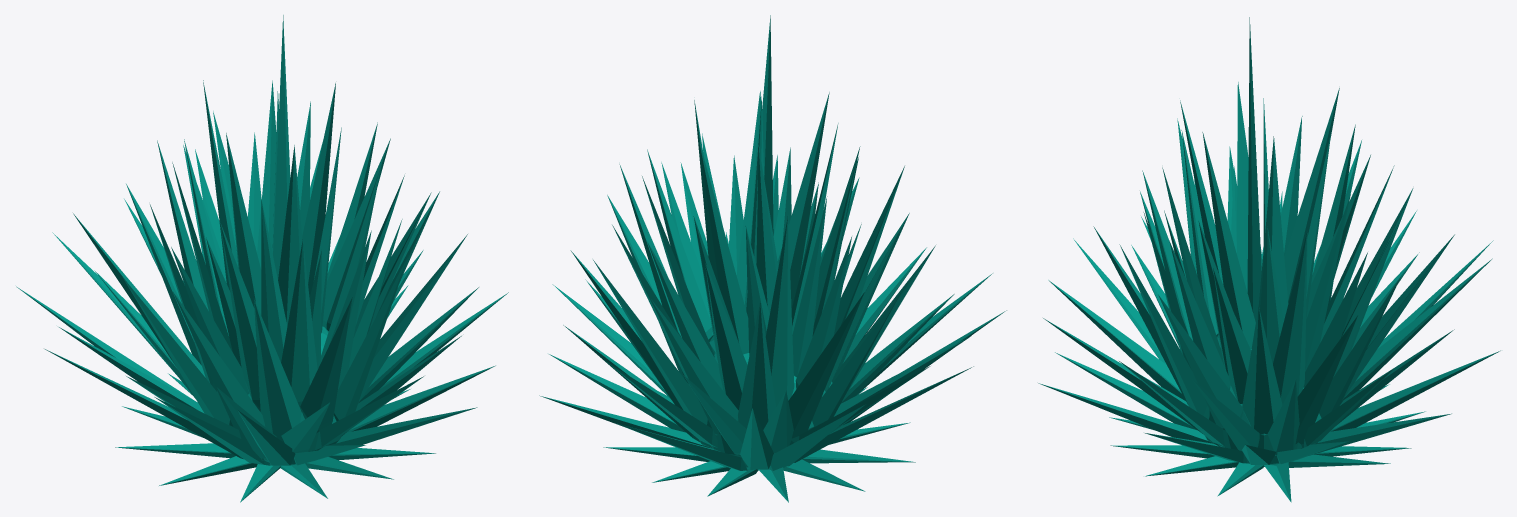
File: agave.glb
The picture shows the model from 3 angles, left to right: view 1: azimuth 30°, elevation 25°; view 2: azimuth 150°, elevation 25°; view 3: azimuth 270°, elevation 25°; orthographic projection. The views are drawn at different scales.
Parts seen in each view (by area): view 1: group1808682730, group321949543, group1232985006, group334840783, group1937561181, group1732842745, group1236448184, group818512132, group856046640, group76448869, group697500498, group1370576841 (+48 smaller); view 2: group576003678, group415249786, group1368278764, group1895805210, group1317476708, group697500498, group2141837401, group395278043, group79880729, group1937783385, group1699110549, group818512132 (+44 smaller); view 3: group1863386935, group603349665, group496826606, group1236448184, group79880729, group1940115487, group1937561181, group678734681, group1144192691, group1457567229, group834218464, group334840783 (+46 smaller).
Boxes of the visible parts, <box> form: group1808682730: <box>281,239,317,412</box>; group321949543: <box>254,299,301,442</box>; group1232985006: <box>220,222,260,411</box>; group334840783: <box>302,83,335,297</box>; group1937561181: <box>334,255,408,421</box>; group1732842745: <box>300,297,352,433</box>; group1236448184: <box>273,15,290,279</box>; group818512132: <box>122,276,229,424</box>; group856046640: <box>226,133,261,314</box>; group76448869: <box>173,292,264,460</box>; group697500498: <box>278,145,302,325</box>; group1370576841: <box>261,199,287,361</box>; group576003678: <box>765,215,794,406</box>; group415249786: <box>698,139,748,354</box>; group1368278764: <box>788,292,864,445</box>; group1895805210: <box>738,301,776,429</box>; group1317476708: <box>705,262,747,409</box>; group697500498: <box>777,92,829,308</box>; group2141837401: <box>593,260,714,449</box>; group395278043: <box>792,196,827,377</box>; group79880729: <box>756,145,778,314</box>; group1937783385: <box>650,298,738,435</box>; group1699110549: <box>647,241,723,390</box>; group818512132: <box>812,293,900,426</box>; group1863386935: <box>1273,230,1307,404</box>; group603349665: <box>1242,306,1282,434</box>; group496826606: <box>1202,132,1255,348</box>; group1236448184: <box>1247,17,1261,322</box>; group79880729: <box>1284,88,1339,303</box>; group1940115487: <box>1213,268,1251,403</box>; group1937561181: <box>1119,244,1209,419</box>; group678734681: <box>1158,294,1243,428</box>; group1144192691: <box>1295,315,1357,448</box>; group1457567229: <box>1048,280,1185,400</box>; group834218464: <box>1341,258,1492,403</box>; group334840783: <box>1258,136,1288,320</box>.
Size of the model in its own units: 1.58 by 1.53 by 1.45.
